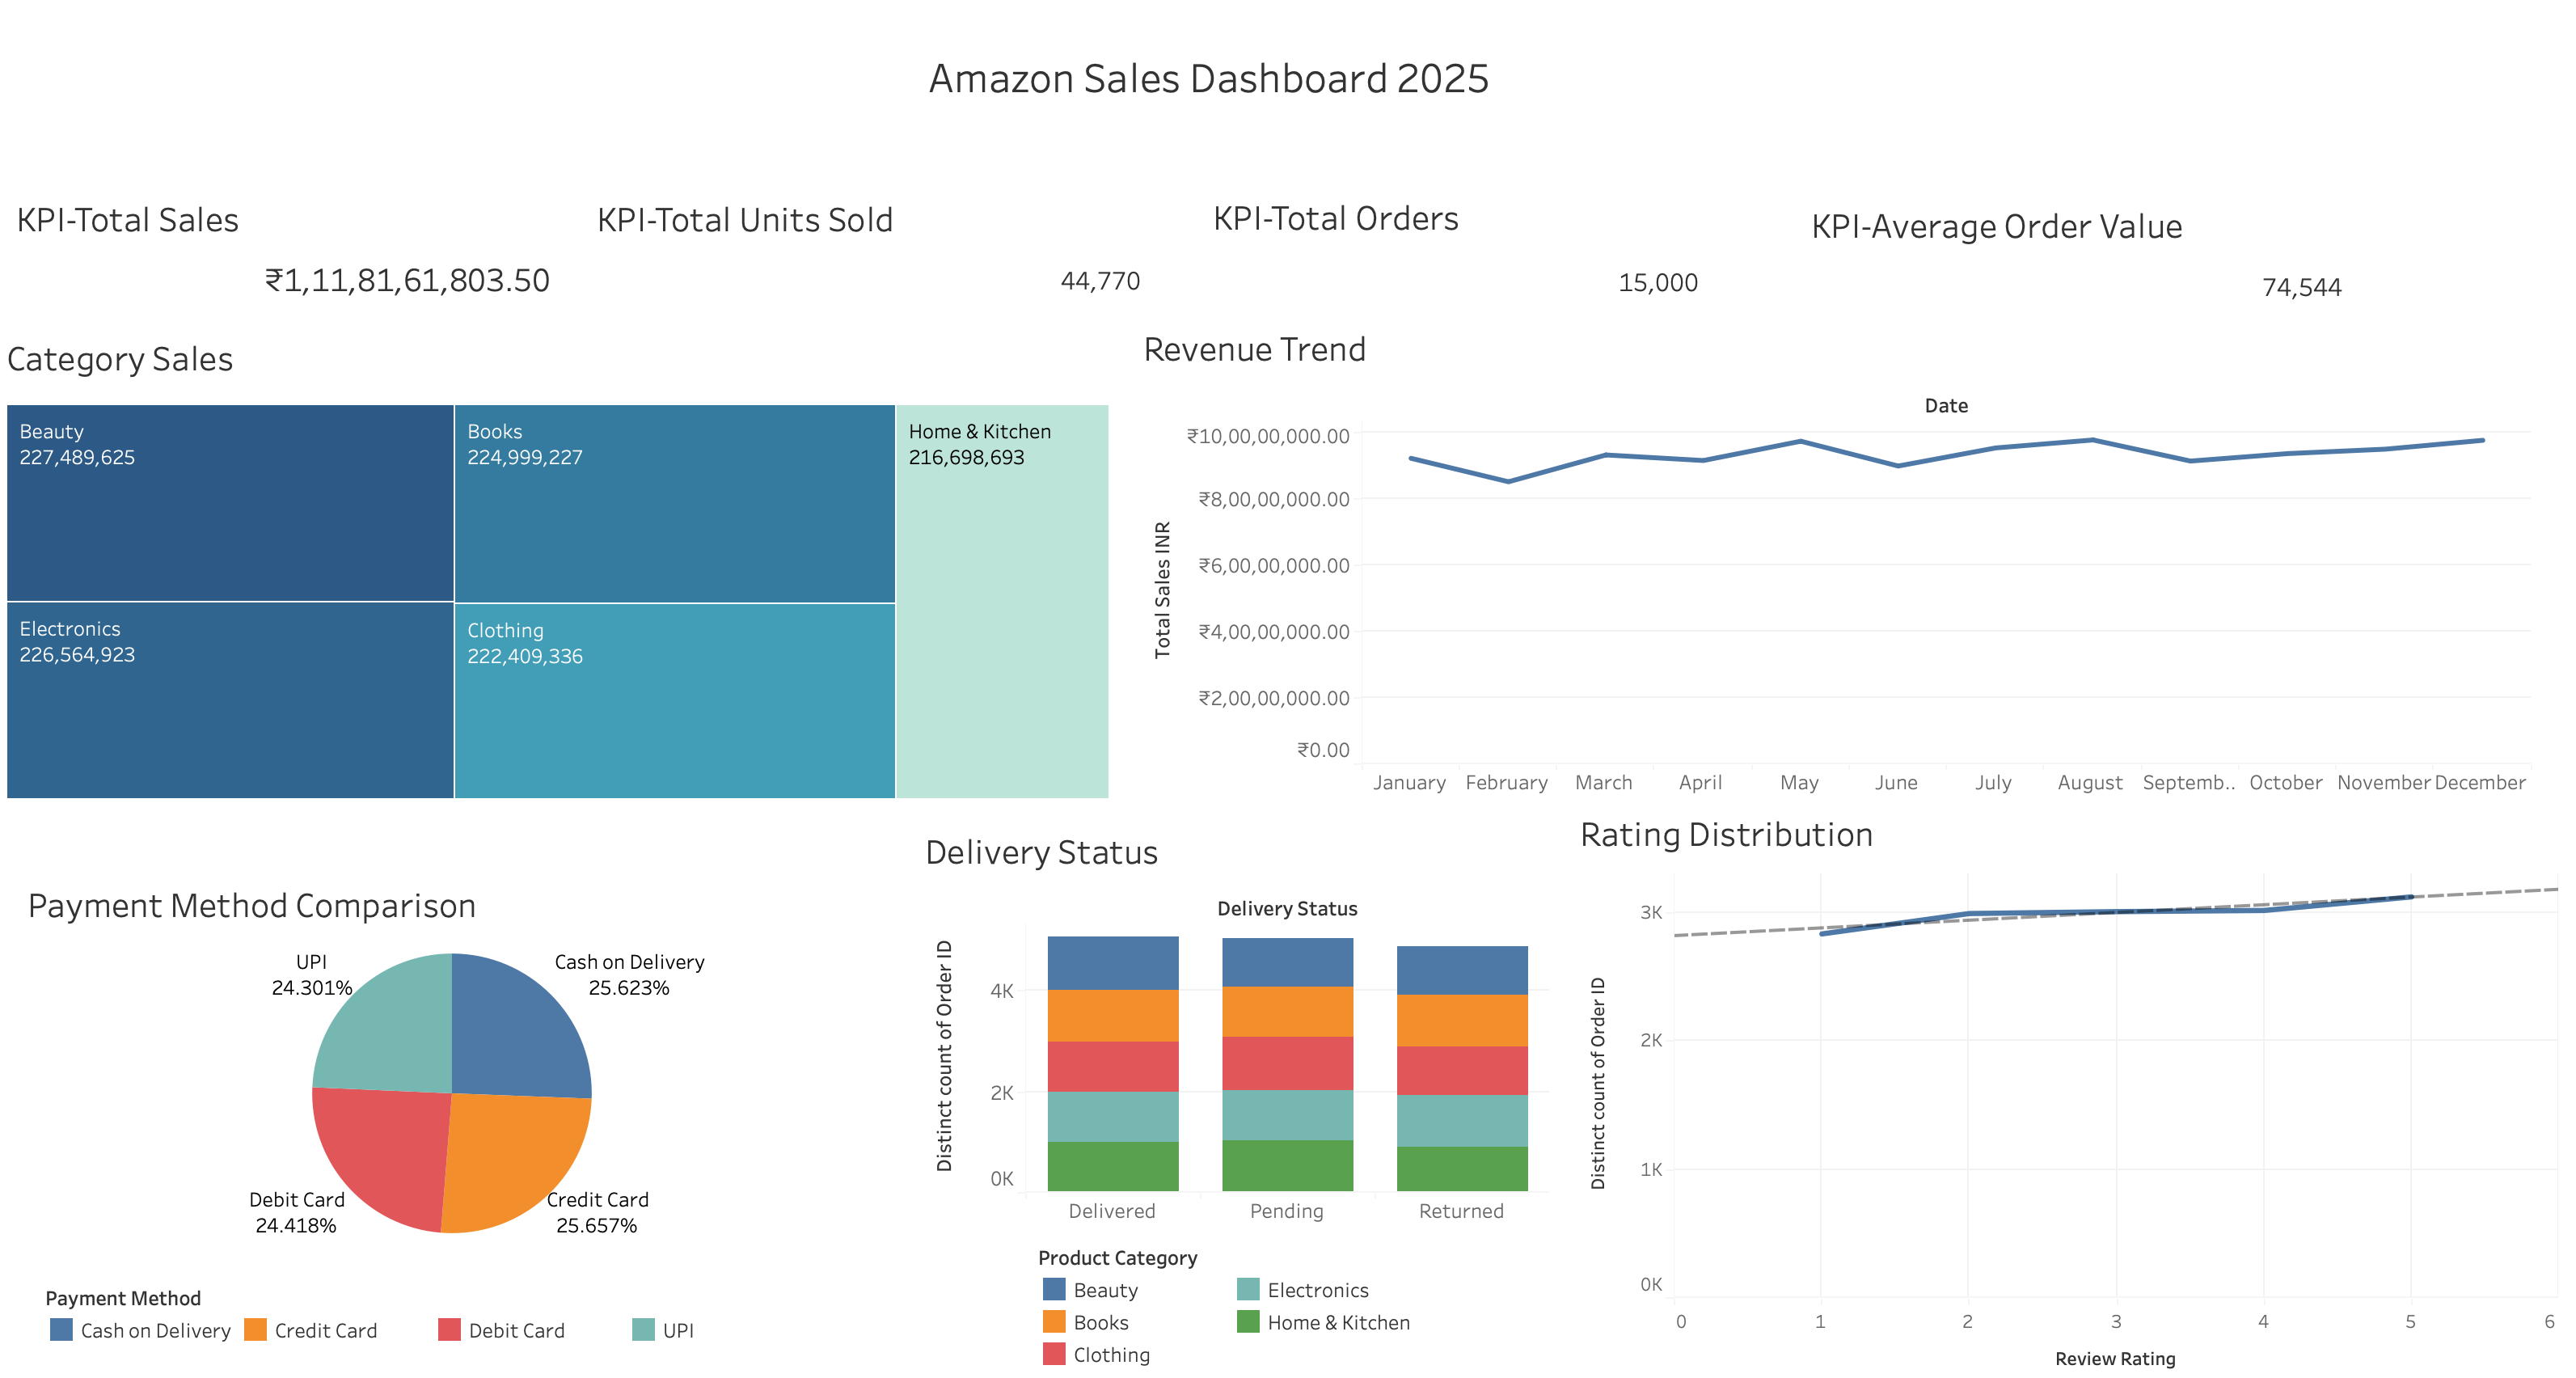

Layout of this report page (visuals, bound fields, positions):
{"tool":"tableau","page":{"name":"Amazon Sales Dashboard 2025","canvas":[1000,1000],"units":"permille","ordinal":0},"visuals":[{"type":"title","box":[303.1,39.3,333.8,85.4]},{"type":"worksheet","title":"KPI-Total Orders","mark":"Automatic","box":[468.8,158.4,193.1,84.3]},{"type":"worksheet","title":"KPI-Total Sales","mark":"Automatic","box":[6.2,159.6,211.9,78.7]},{"type":"worksheet","title":"KPI-Total Units Sold","mark":"Automatic","box":[230.6,159.6,215.6,78.7]},{"type":"worksheet","title":"KPI-Average Order Value","mark":"Automatic","box":[700,164,210.6,79.8]},{"type":"worksheet","title":"Revenue Trend","mark":"Automatic","rows":["Total_Sales_INR"],"cols":["Date"],"box":[441.9,249.4,539.4,332.6]},{"type":"worksheet","title":"Category Sales","mark":"Automatic","box":[2.5,256.2,431.2,332.6]},{"type":"worksheet","title":"Rating Distribution","mark":"Automatic","rows":["Order_ID"],"cols":["Review_Rating"],"box":[610.6,586.5,380.6,401.1]},{"type":"worksheet","title":"Delivery Status","mark":"Bar","rows":["Order_ID"],"cols":["Delivery_Status"],"box":[357.5,598.9,243.8,280.9]},{"type":"worksheet","title":"Payment Method Comparison","mark":"Pie","box":[10.6,636,333.1,255.1]},{"type":"legend","title":"Delivery Status","param":"[federated.0wq3mld1lyu1vb18os8mc0h1b05a].[none:Product_Category:nk]","box":[403.8,892.1,185.6,107.9]},{"type":"legend","title":"Payment Method Comparison","param":"[federated.0wq3mld1lyu1vb18os8mc0h1b05a].[none:Payment_Method:nk]","box":[20,920.2,343.1,64]}]}

Visuals, with their boxes on the dashboard's canvas, which has no fixed pixel size, in thousandths of its width and height (x1, y1, x2, y2). These are canvas units, not pixel positions in the 2576x1378 screenshot, which may show the page scaled, cropped or inside an application window:
title: 303,39,637,125
"KPI-Total Orders" worksheet: 469,158,662,243
"KPI-Total Sales" worksheet: 6,160,218,238
"KPI-Total Units Sold" worksheet: 231,160,446,238
"KPI-Average Order Value" worksheet: 700,164,911,244
"Revenue Trend" worksheet: 442,249,981,582
"Category Sales" worksheet: 2,256,434,589
"Rating Distribution" worksheet: 611,586,991,988
"Delivery Status" worksheet (Bar marks): 358,599,601,880
"Payment Method Comparison" worksheet (Pie marks): 11,636,344,891
"Delivery Status" legend: 404,892,589,1000
"Payment Method Comparison" legend: 20,920,363,984
